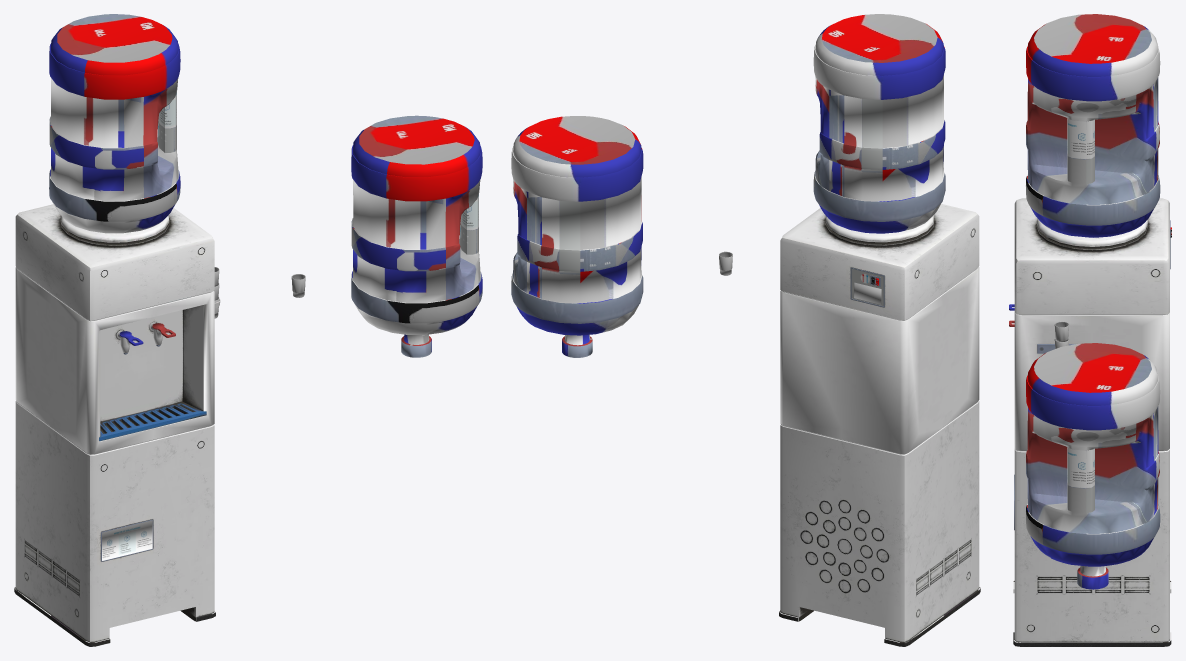
Rendered from water_cooler.glb.
The picture shows the model from 3 angles, left to right: view 1: azimuth 30°, elevation 25°; view 2: azimuth 150°, elevation 25°; view 3: azimuth 270°, elevation 25°; orthographic projection.
Parts seen in each view (by area): view 1: water_cooler; view 2: water_cooler; view 3: water_cooler.
Boxes of the visible parts, x1,y1,x2,y2 form: water_cooler: [14, 14, 482, 646]; water_cooler: [511, 14, 980, 646]; water_cooler: [1009, 14, 1171, 646].
Bounding box in the file's own units: 1.02 × 1.3 × 0.3325.
3 materials, 3 textured.
